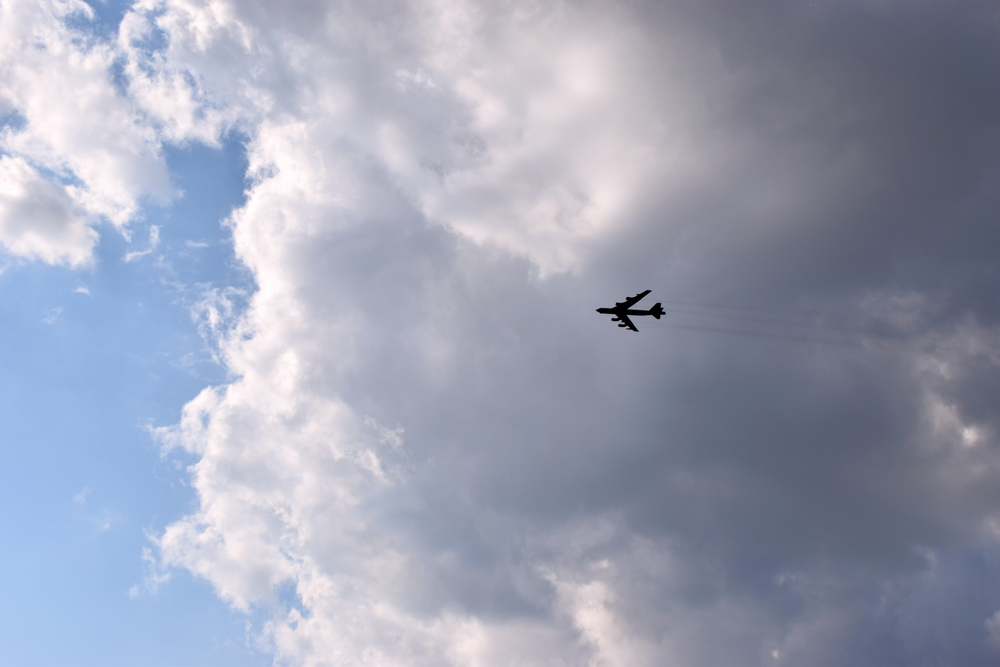B52: (595, 289, 667, 333)
